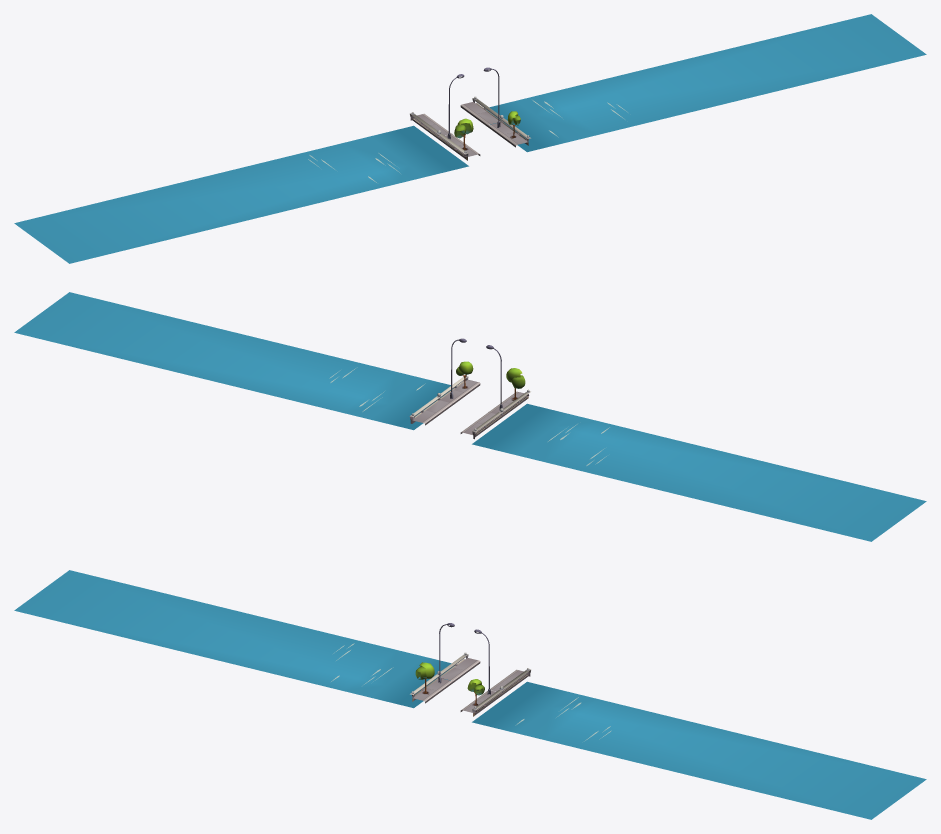
Rendered from Tom1_ParkRiverBridgeMiddle_10 1.fbx.
3 views of the same model, one above another, from view 1: azimuth 30°, elevation 25°; view 2: azimuth 150°, elevation 25°; view 3: azimuth 330°, elevation 25° (orthographic).
Visible parts, largest first — view 1: Tom1_ParkRiverBridgeSetMiddle_10; view 2: Tom1_ParkRiverBridgeSetMiddle_10; view 3: Tom1_ParkRiverBridgeSetMiddle_10.
Part boxes in pixels (x1=…): Tom1_ParkRiverBridgeSetMiddle_10: x1=14, y1=14, x2=926, y2=263; Tom1_ParkRiverBridgeSetMiddle_10: x1=14, y1=292, x2=926, y2=541; Tom1_ParkRiverBridgeSetMiddle_10: x1=14, y1=570, x2=926, y2=819.
Size of the model in its own units: 8921 by 712 by 1000.
